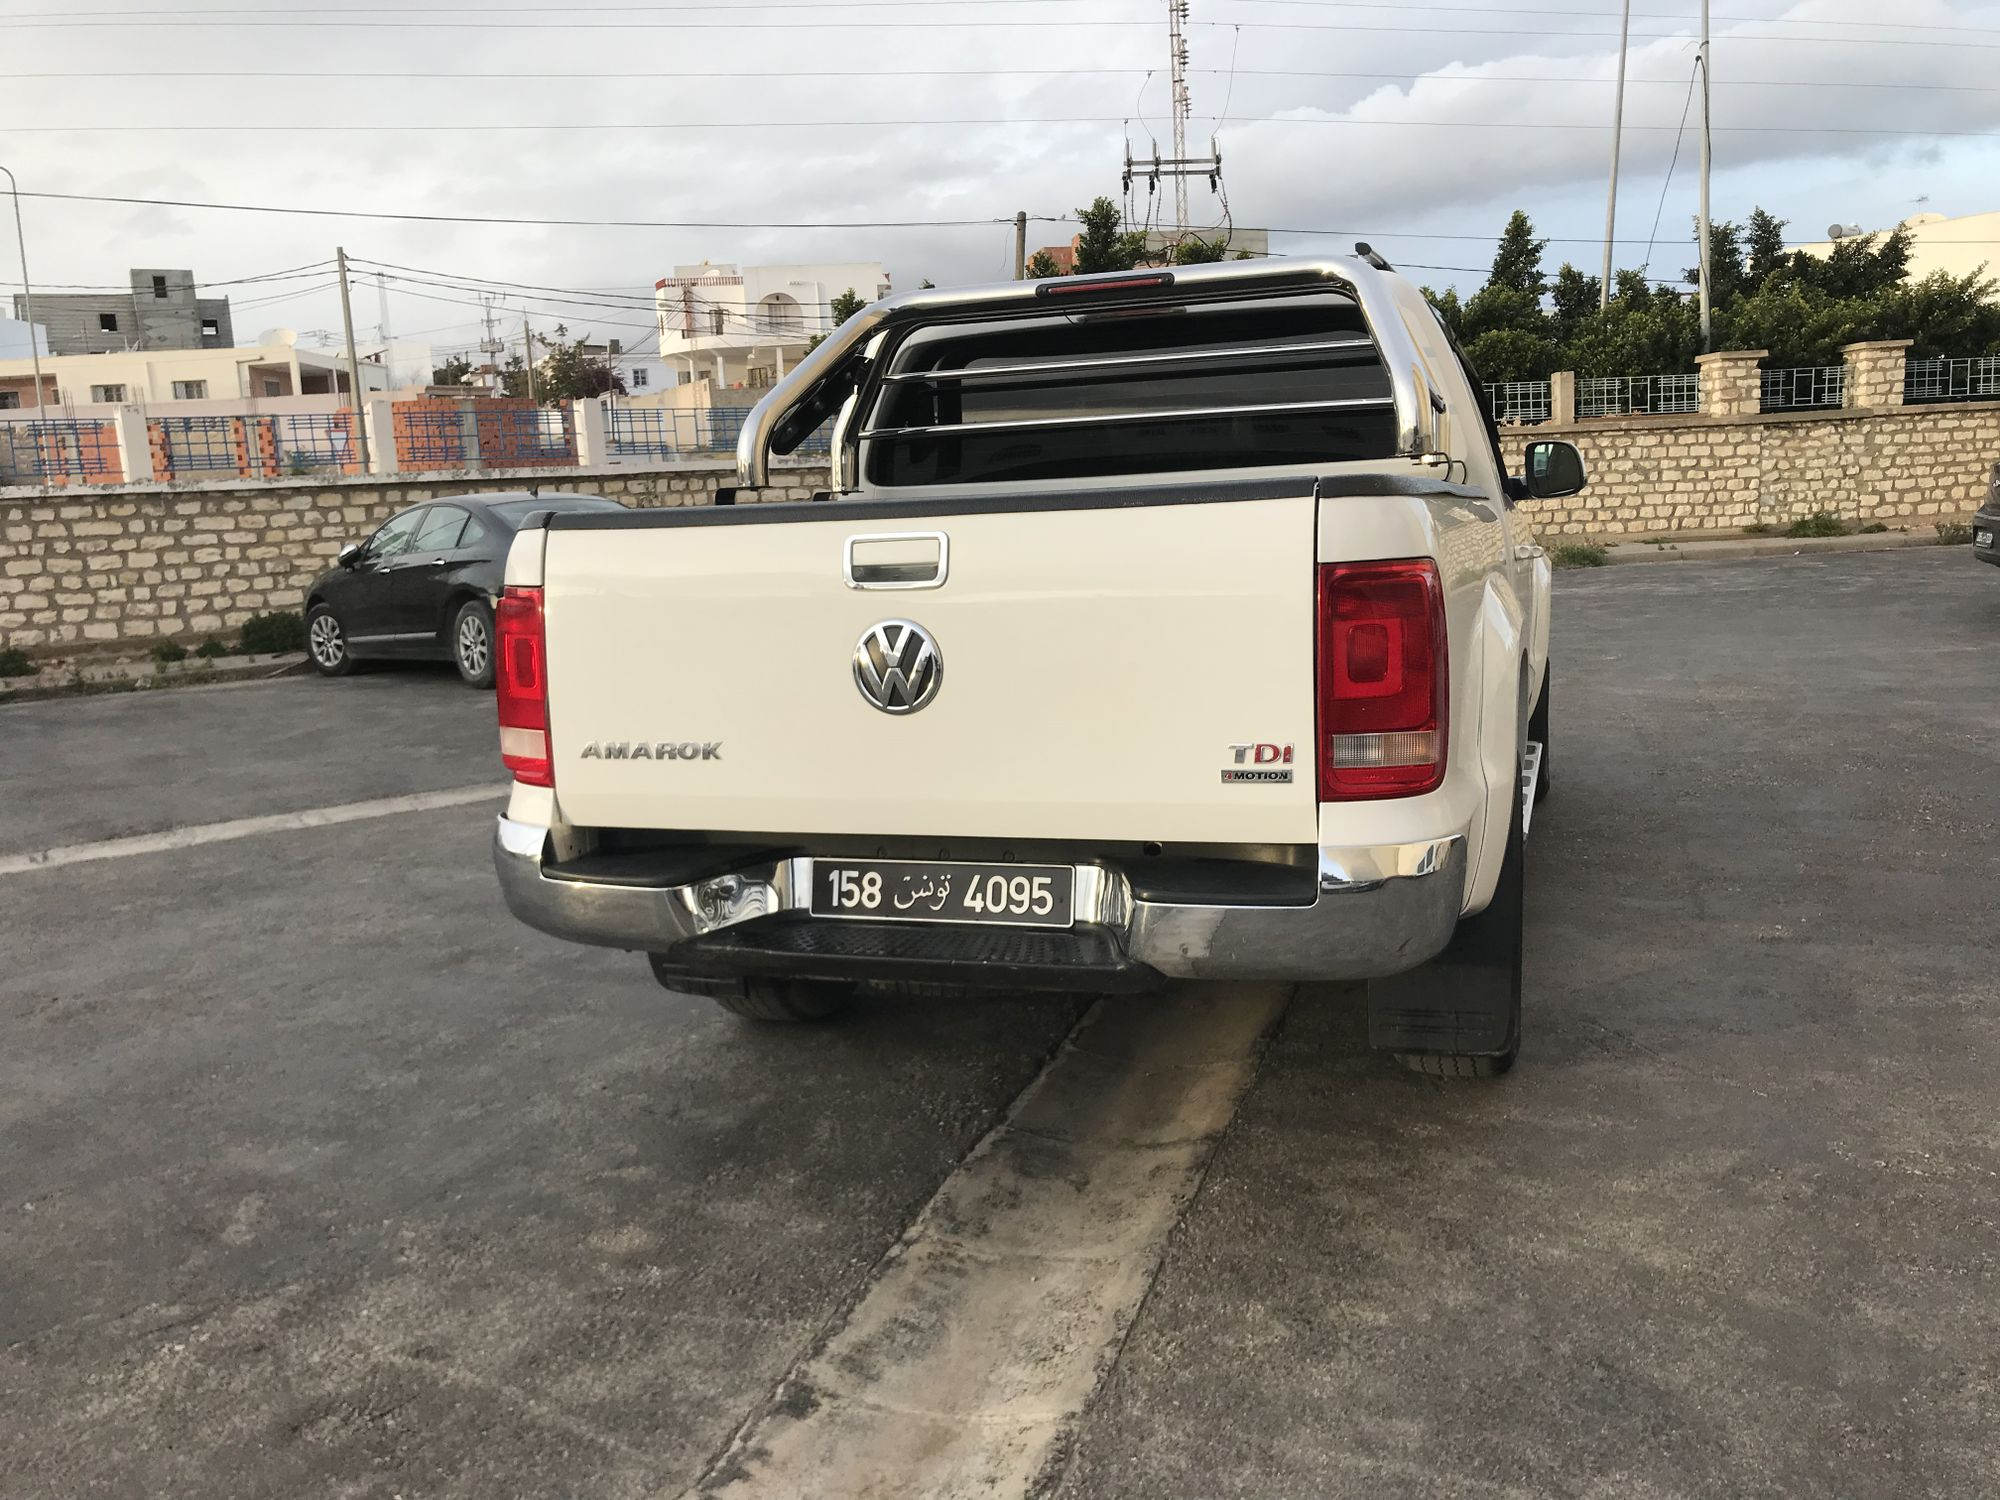LP: (808, 857, 1092, 930)
